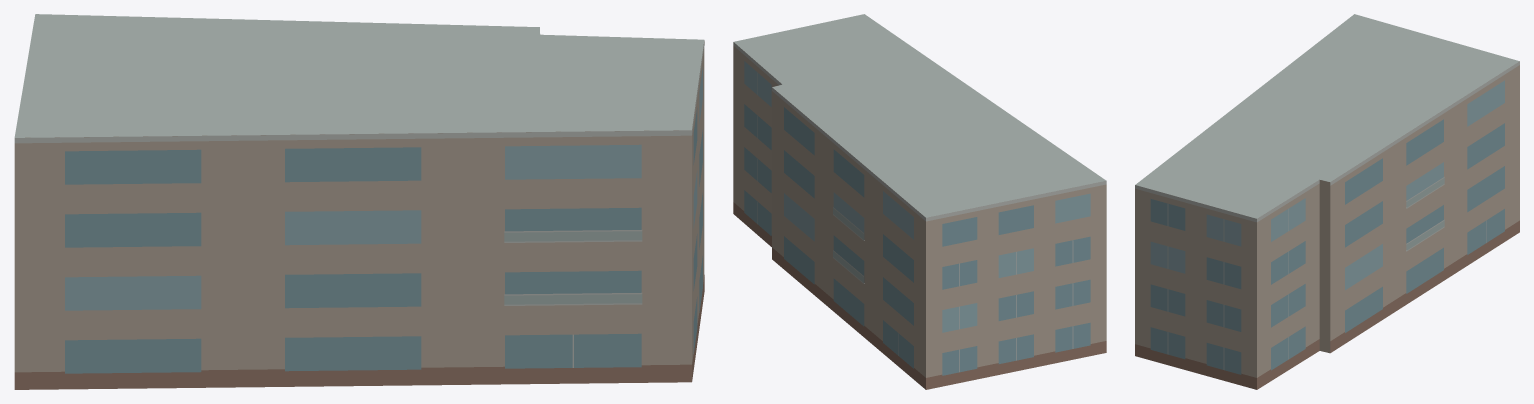
The model's file is survey-upis-32631092.glb.
The picture shows the model from 3 angles, left to right: view 1: azimuth 30°, elevation 25°; view 2: azimuth 150°, elevation 25°; view 3: azimuth 270°, elevation 25°; orthographic projection. The views are drawn at different scales.
Parts seen in each view (by area): view 1: survey-upis-32631092.tmp; view 2: survey-upis-32631092.tmp; view 3: survey-upis-32631092.tmp.
Boxes of the visible parts, x1=… form: survey-upis-32631092.tmp: x1=14, y1=14, x2=704, y2=389; survey-upis-32631092.tmp: x1=733, y1=14, x2=1106, y2=389; survey-upis-32631092.tmp: x1=1135, y1=14, x2=1519, y2=389.
Bounding box in the file's own units: 29.02 × 11.3 × 23.03.
